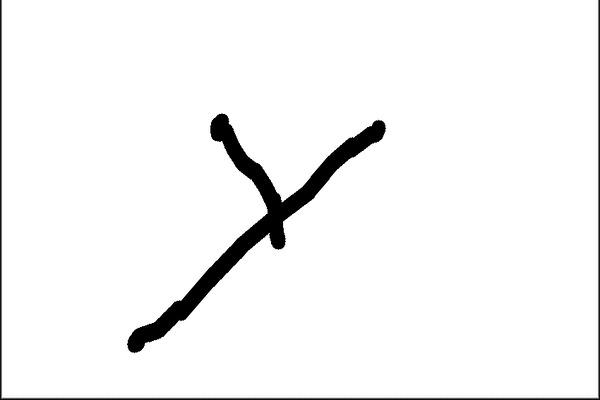Y: (93, 83, 423, 365)
